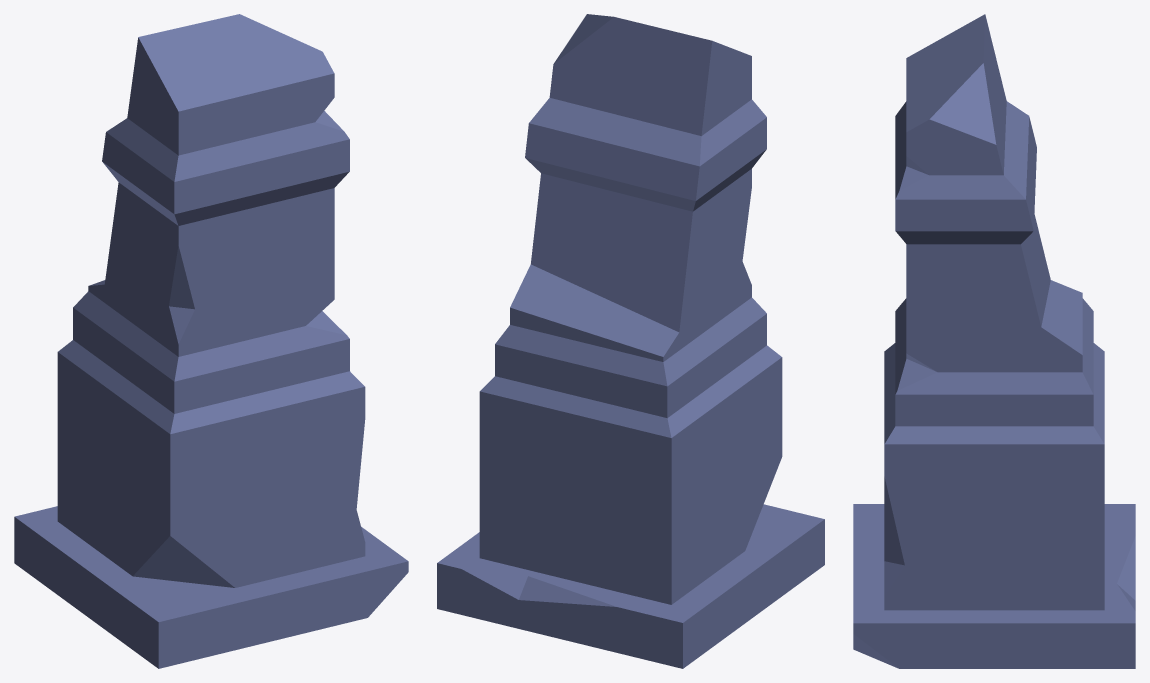
The model's file is arch_1_dstr_1.fbx.
3 views of the same model, side by side, from view 1: azimuth 30°, elevation 25°; view 2: azimuth 150°, elevation 25°; view 3: azimuth 270°, elevation 25° (orthographic). The views are drawn at different scales.
Parts seen in each view (by area): view 1: arch_1_dstr_1; view 2: arch_1_dstr_1; view 3: arch_1_dstr_1.
Part boxes in pixels (<box>): arch_1_dstr_1: <box>14,14,408,668</box>; arch_1_dstr_1: <box>437,14,824,668</box>; arch_1_dstr_1: <box>853,14,1135,668</box>.
Bounding box in the file's own units: 2.18 × 4.77 × 2.18.
